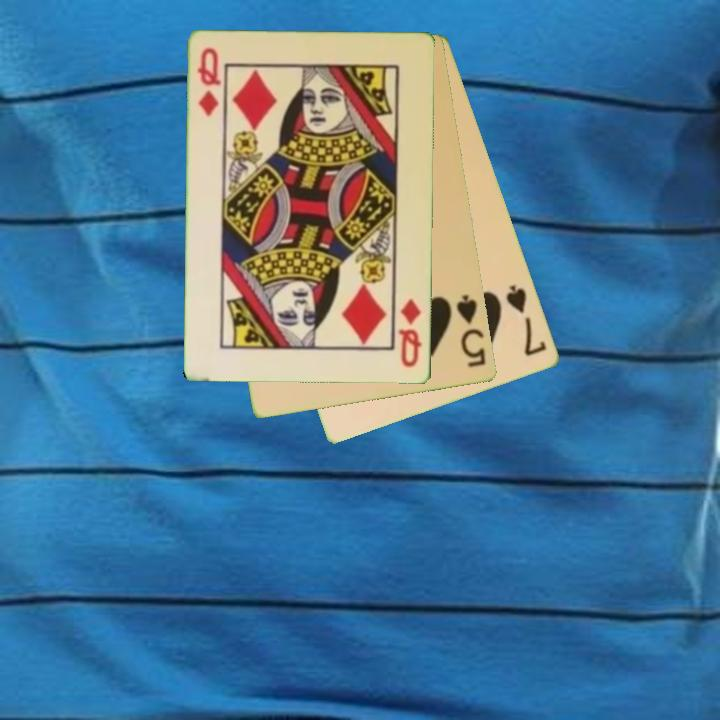5s: (453, 291, 489, 370)
7s: (503, 281, 550, 359)
Qd: (395, 295, 425, 370), (194, 44, 224, 119)
